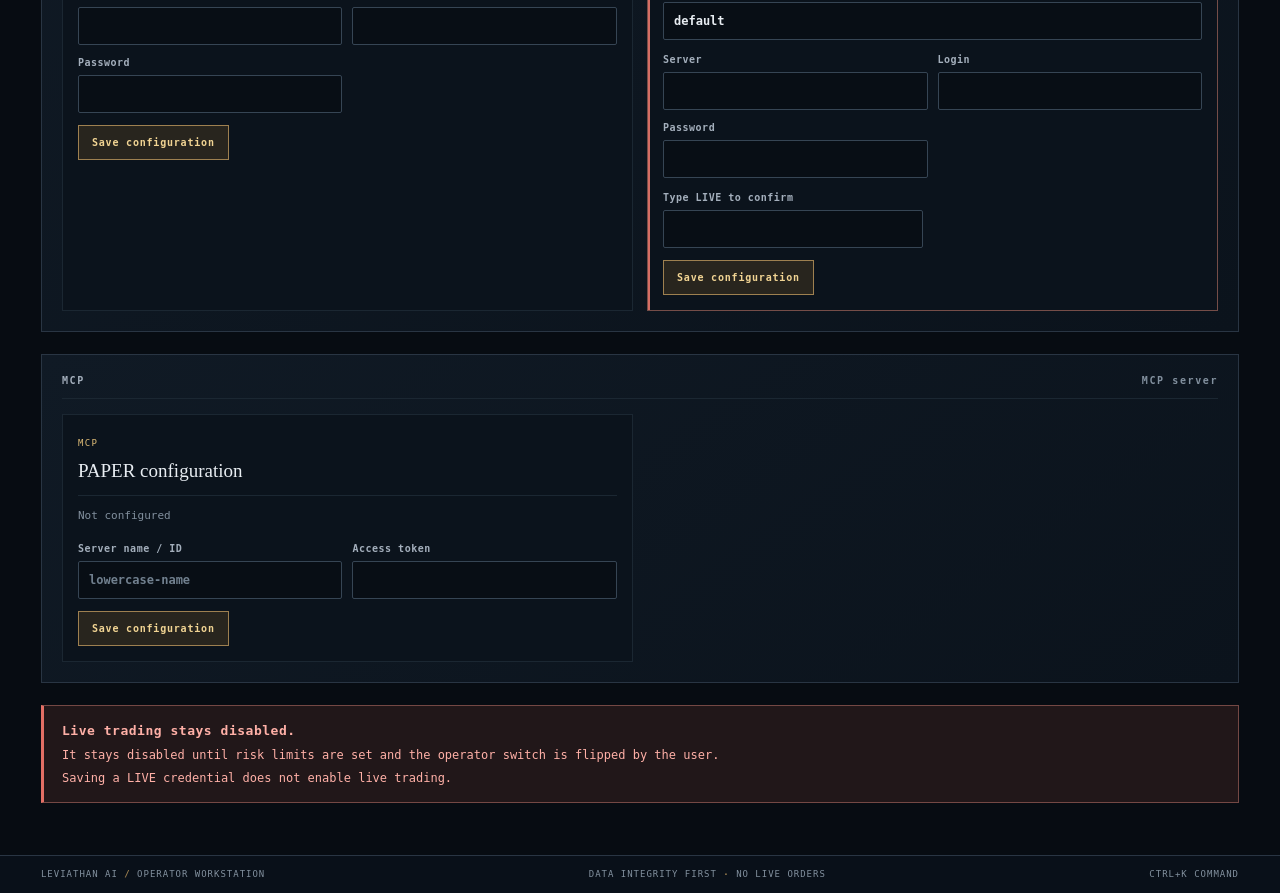
Test: Live Trading credential configurations › mirrors the closed server ID syntax and rejects reserved MCP IDs
(page scrolled)
Type "COM1" into the field labelled "Server name / ID".
click(210, 580); type("COM1")  # box [78,561,342,599]
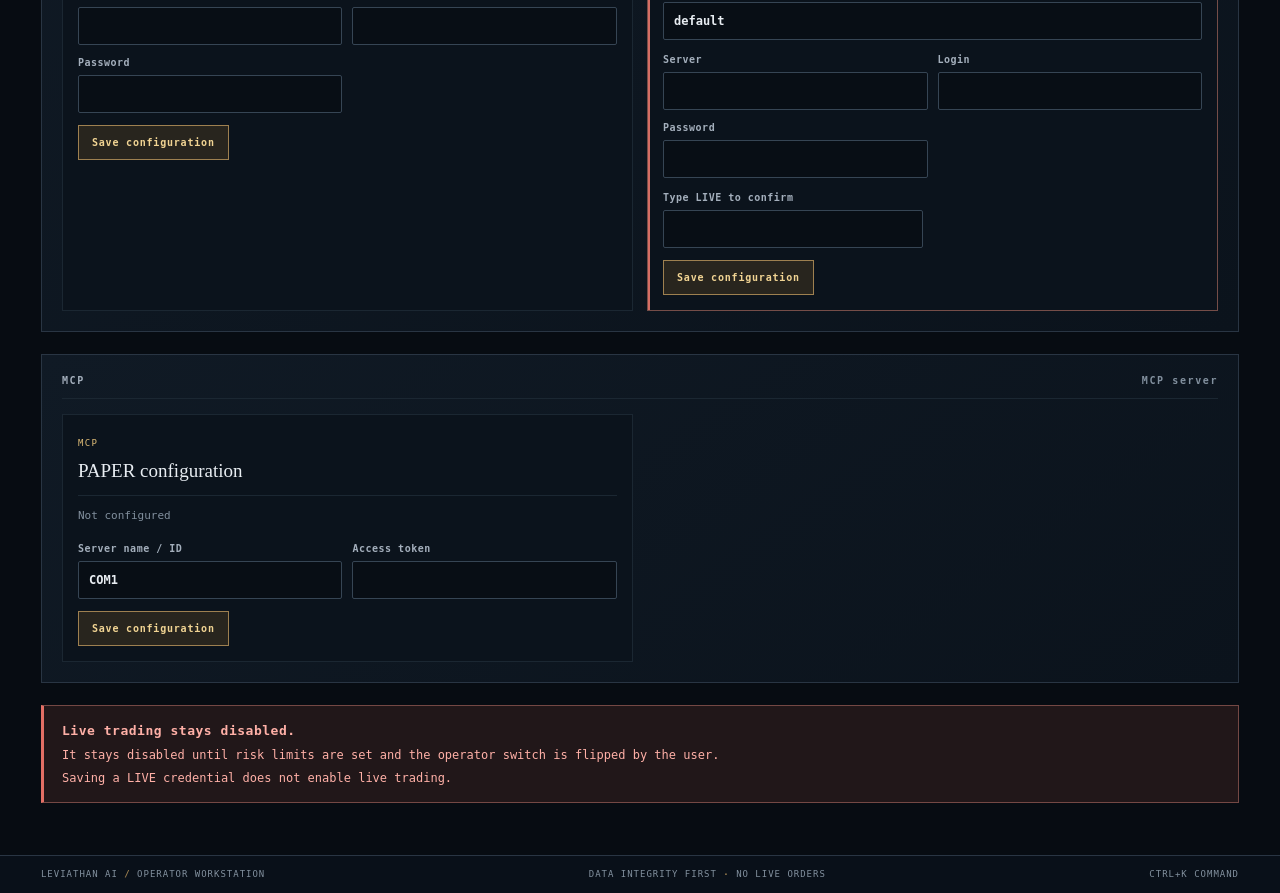
Type "SYNTHETIC-not-a-secret-0001" into the password field labelled "Access token".
click(485, 580); type("SYNTHETIC-not-a-secret-0001")  # box [352,561,617,599]
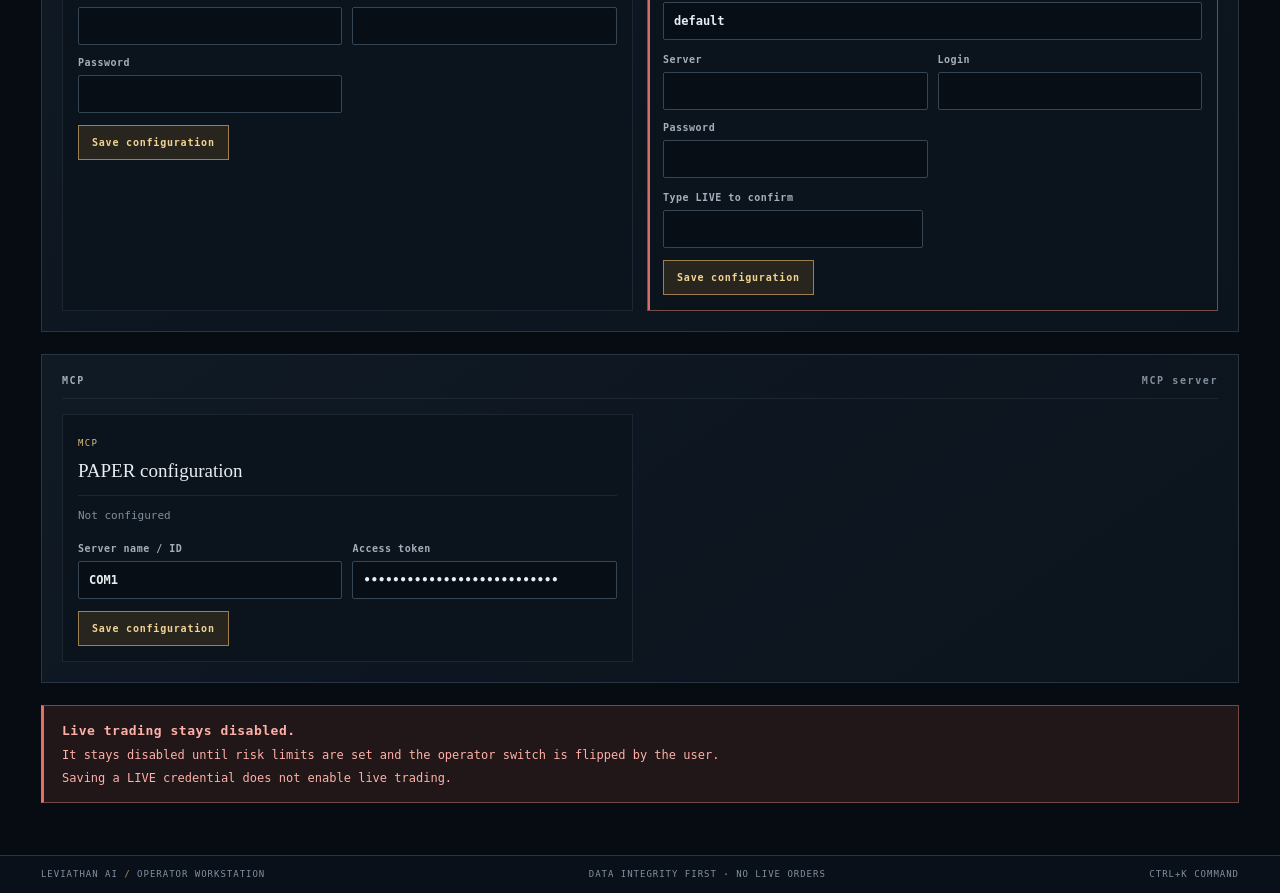
Submit the form named "MCP server PAPER credential form", box [78,541,617,646]
(page scrolled)
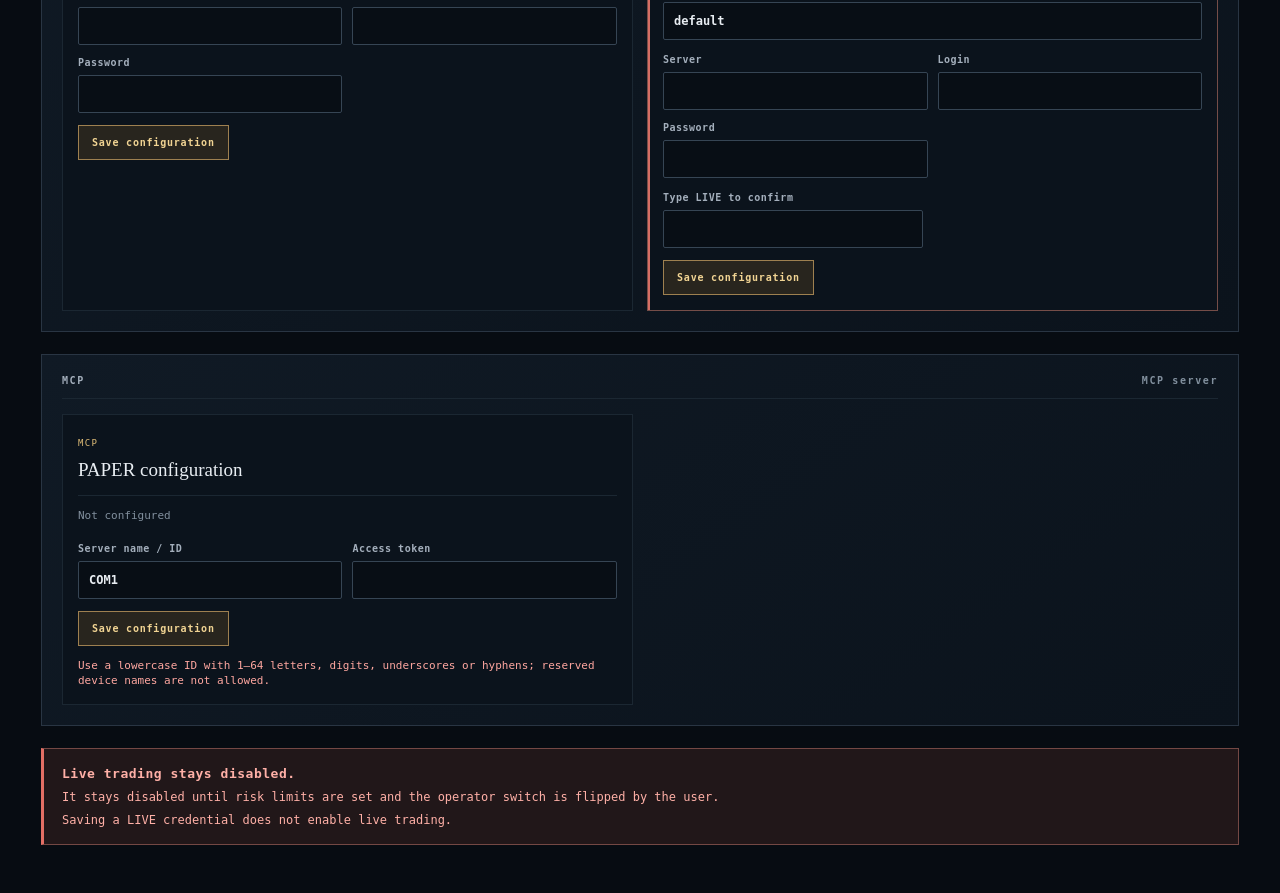
Expected: the 2nd message shows "reserved device names", [78,659,595,687]
Expected: the password field labelled "Access token" is empty, [352,561,617,599]
